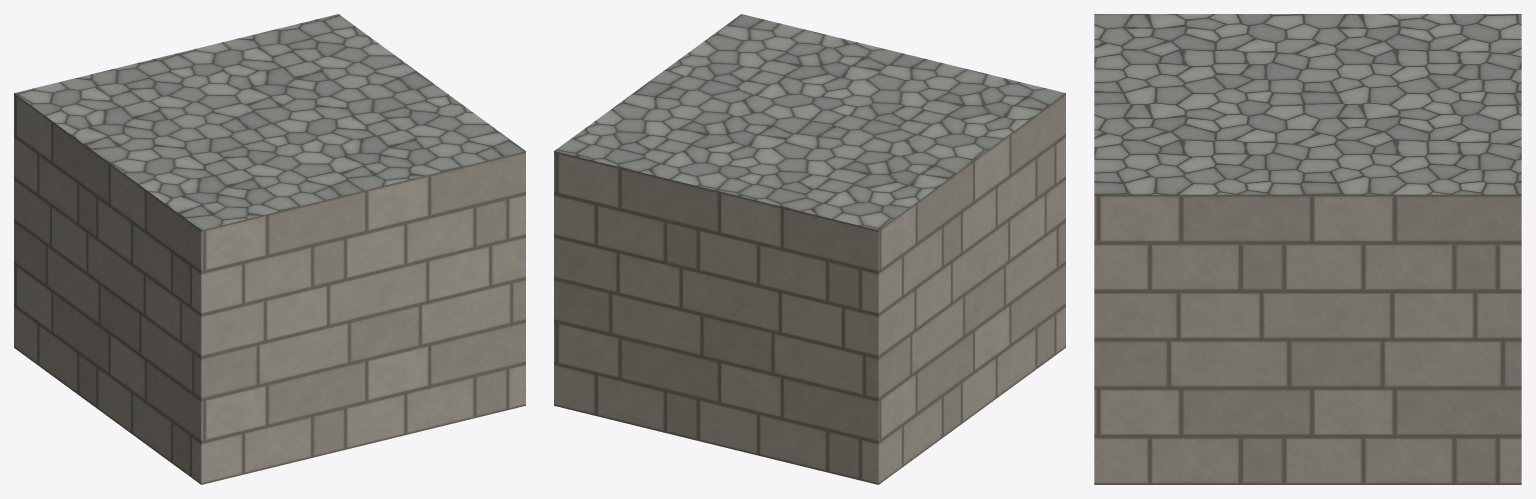
Rendered from Ground_Cobble_U.fbx.
3 views of the same model, side by side, from view 1: azimuth 30°, elevation 25°; view 2: azimuth 150°, elevation 25°; view 3: azimuth 270°, elevation 25° (orthographic). The views are drawn at different scales.
Visible parts, largest first — view 1: Ground_Cobble_U; view 2: Ground_Cobble_U; view 3: Ground_Cobble_U.
Boxes of the visible parts, x1=… form: Ground_Cobble_U: x1=14, y1=14, x2=525, y2=484; Ground_Cobble_U: x1=554, y1=14, x2=1065, y2=484; Ground_Cobble_U: x1=1094, y1=14, x2=1521, y2=484.
Bounding box in the file's own units: 3 × 2.25 × 3.
2 materials, 2 textured.
